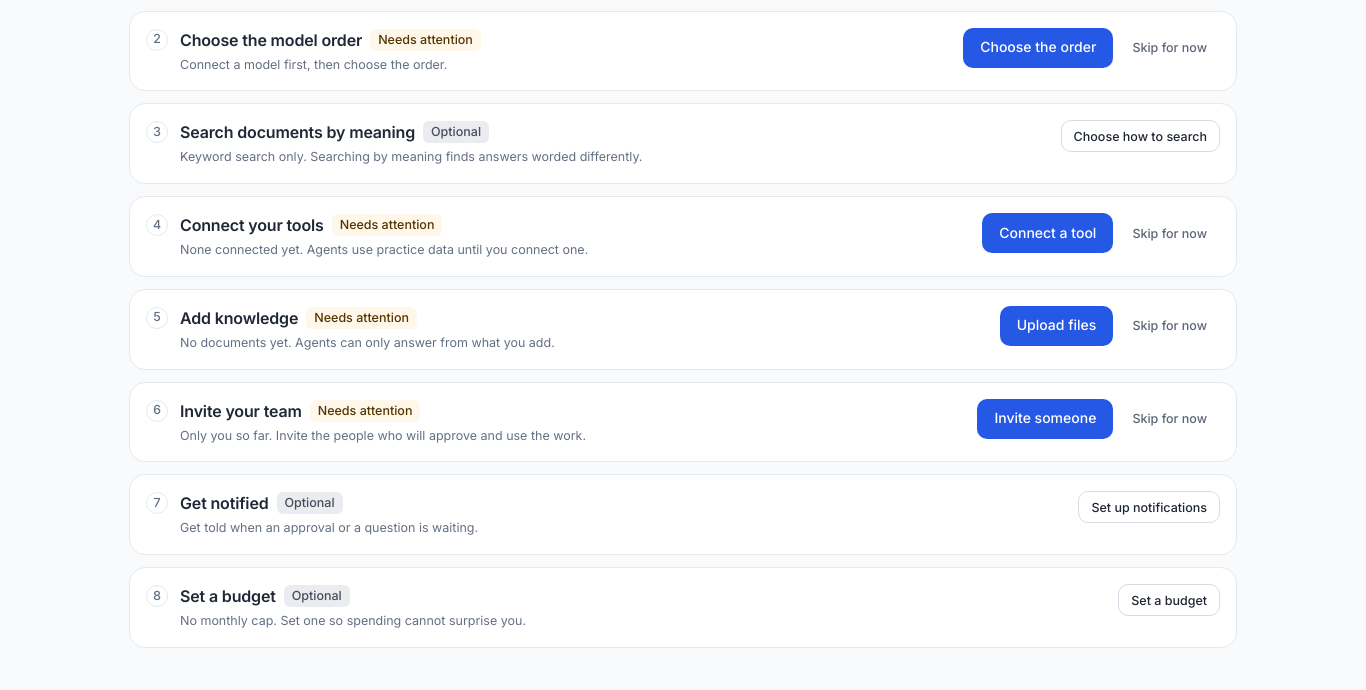
Set up your workspace › invites someone by email and role from the page
(page scrolled)
Click the button with aria-label "Invite someone: Invite your team": (1045,419) [977,399,1113,439]
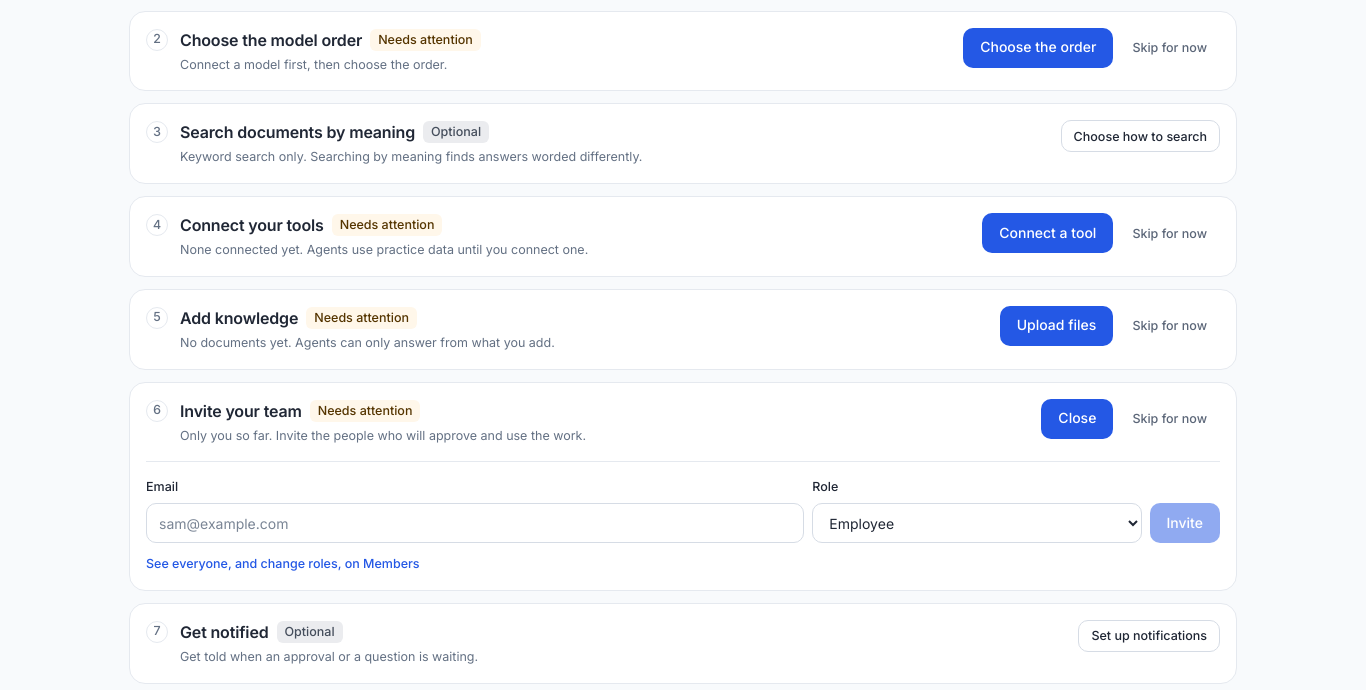
In the field labelled "Email": (475,523) [146,503,804,543], type "not-an-email"
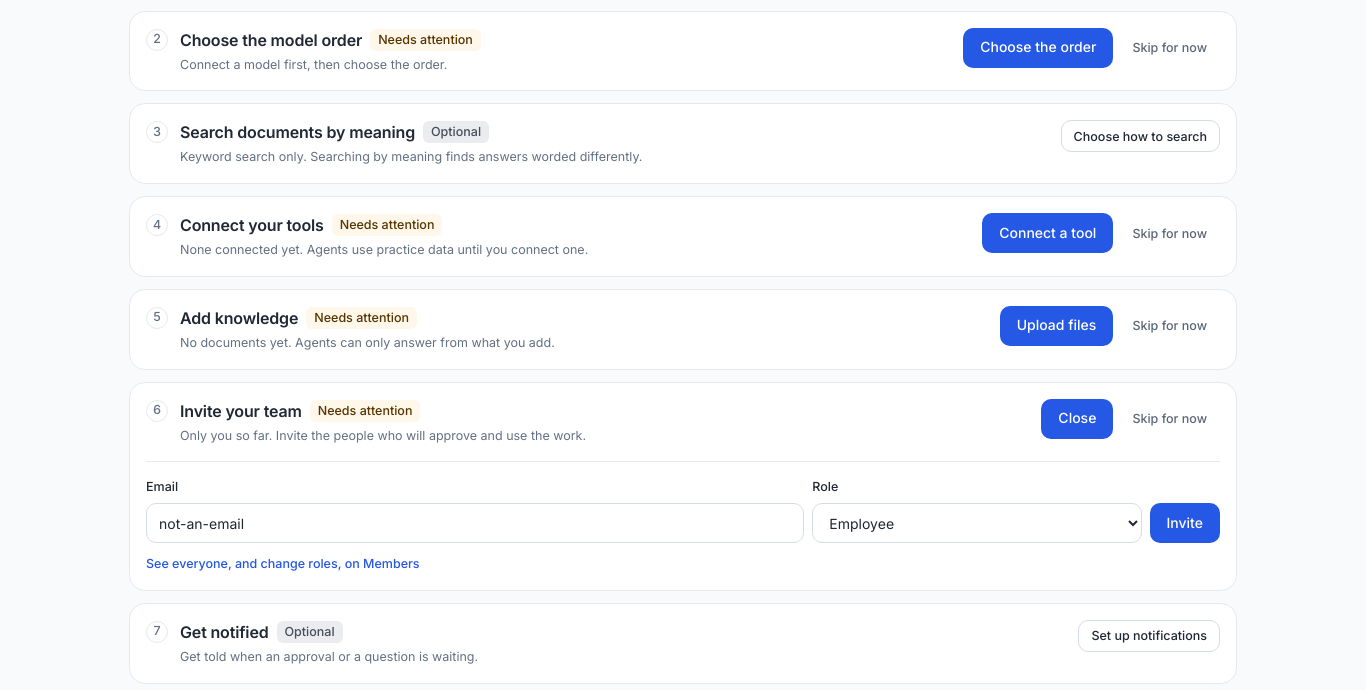
Click the button "Invite": (1185,523) [1150,503,1220,543]
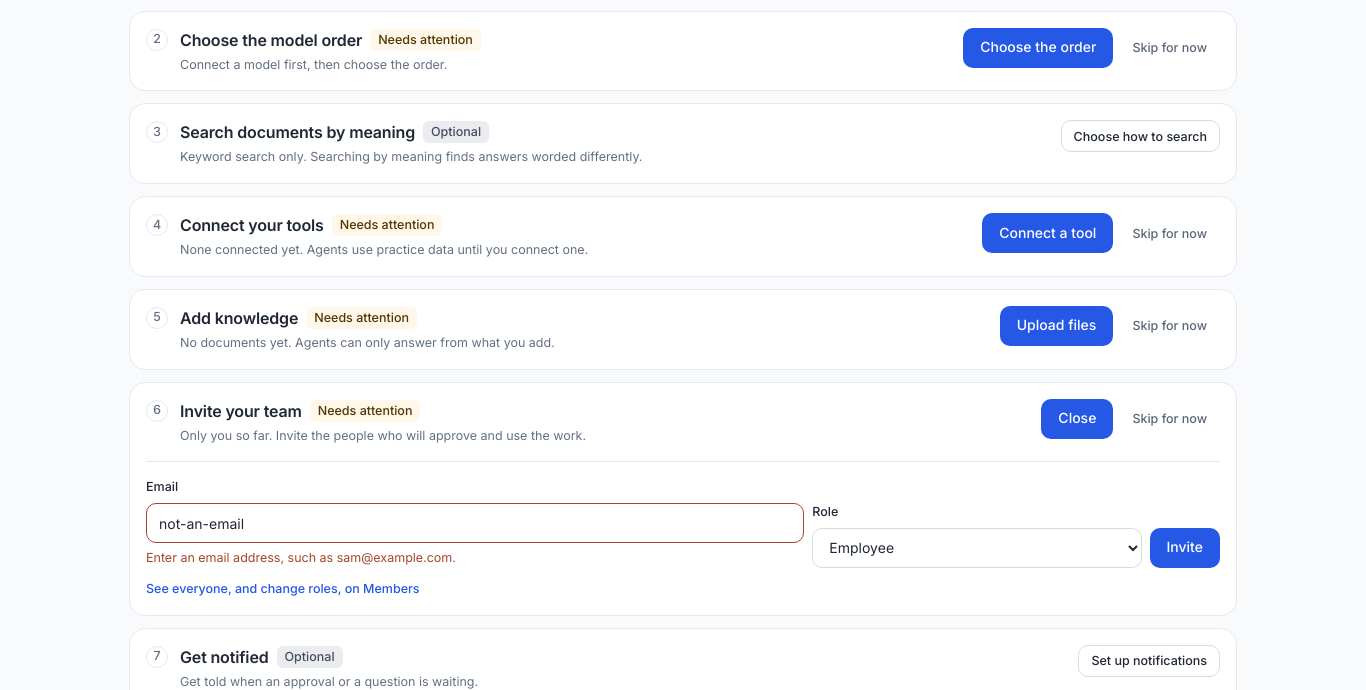
Result: the text "Enter an email address, such as sam@example.com." is shown at [146,550,456,565]
Replace the text in the field labelled "Email" with "sam@example.test": (475,523) [146,503,804,543]
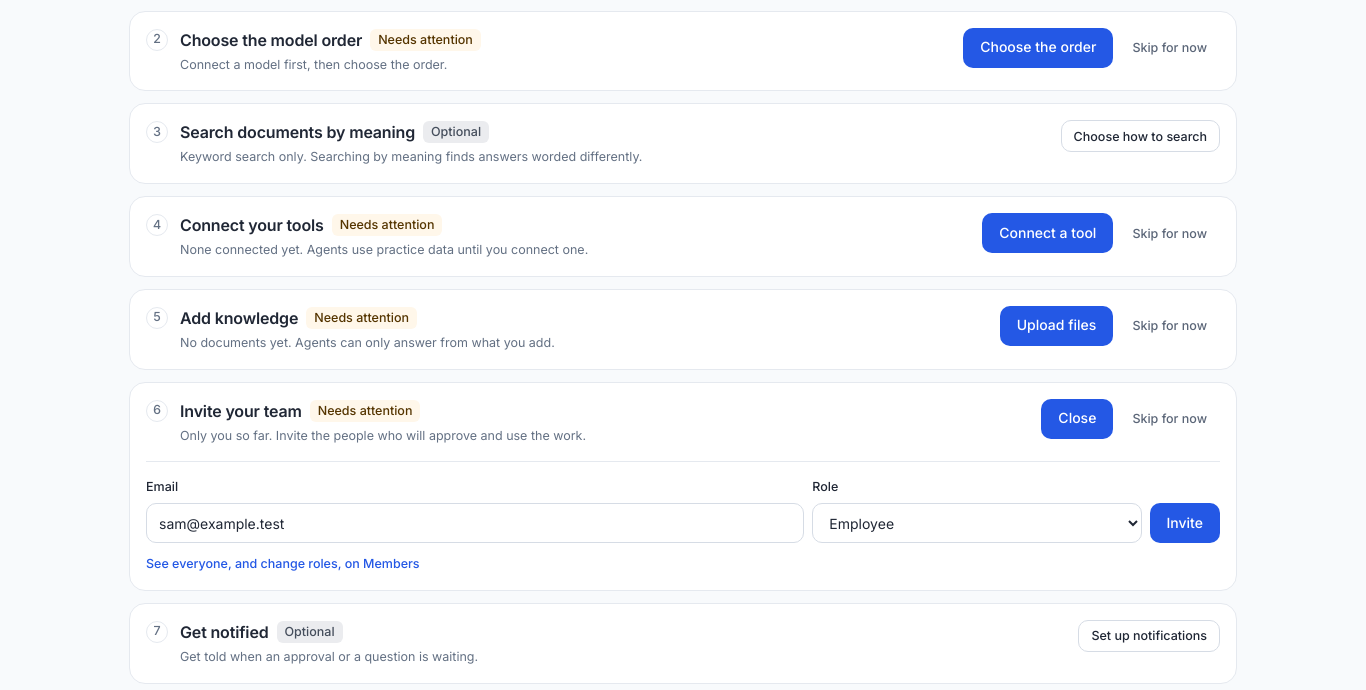
Click the button "Invite": (1185,523) [1150,503,1220,543]
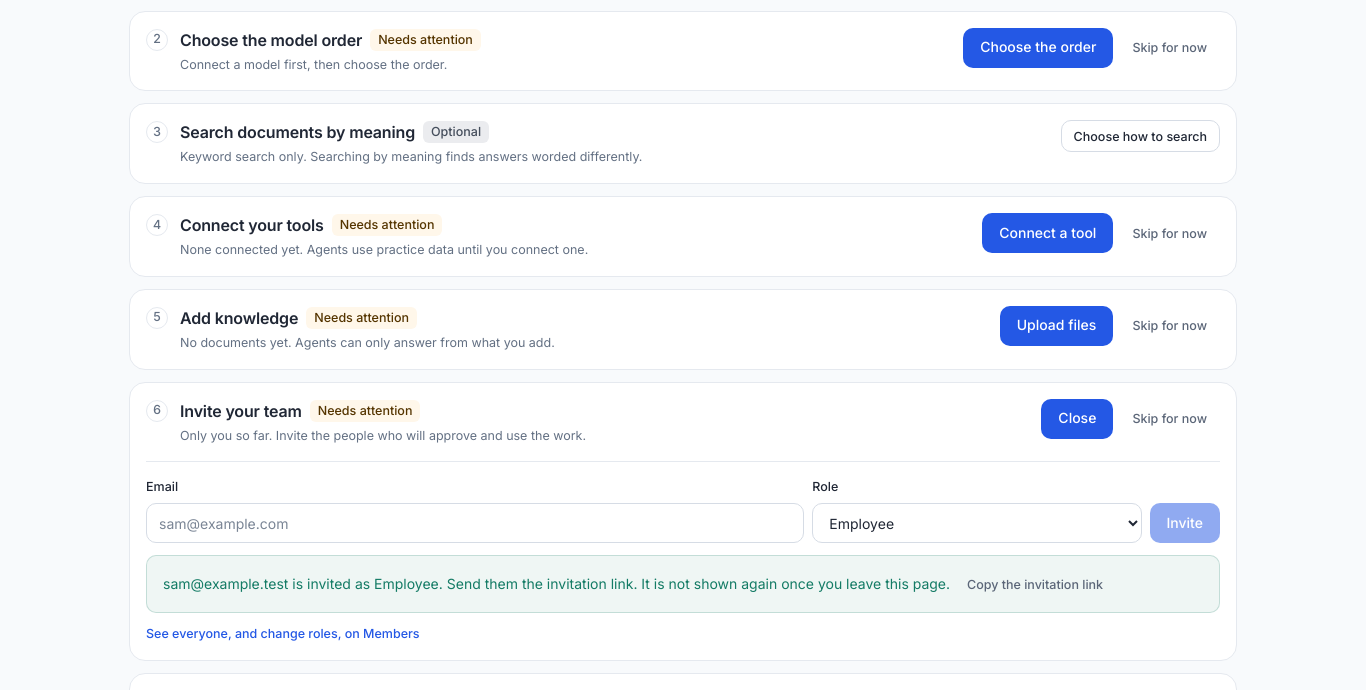
Result: the text "sam@example.test is invited as Employee" is shown at [163,575,1116,592]
